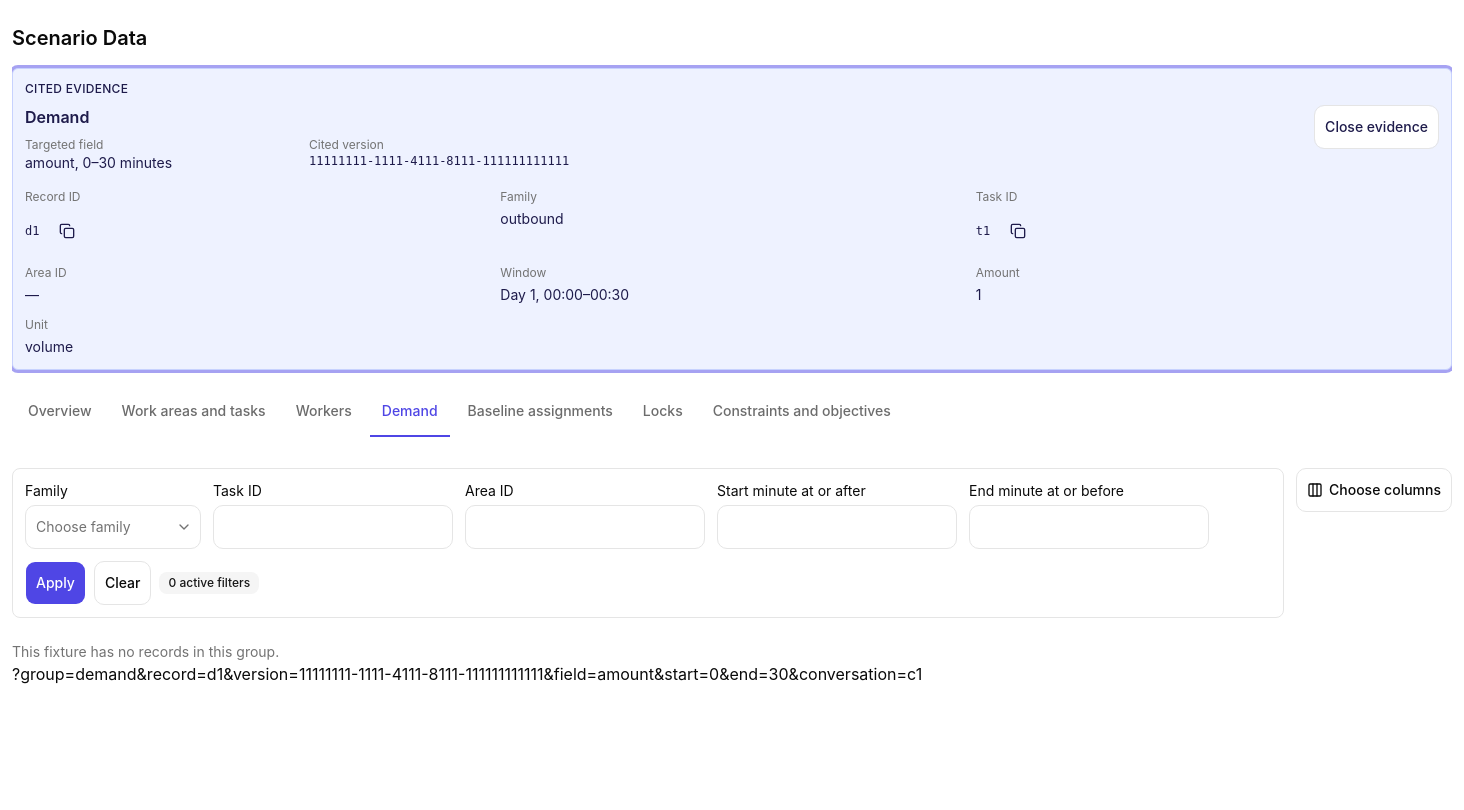
Test: closes the evidence onto its group, keeping filters and the chat's conversation
Click the button "Close evidence".
click(1377, 127)  # box [1314,105,1439,149]
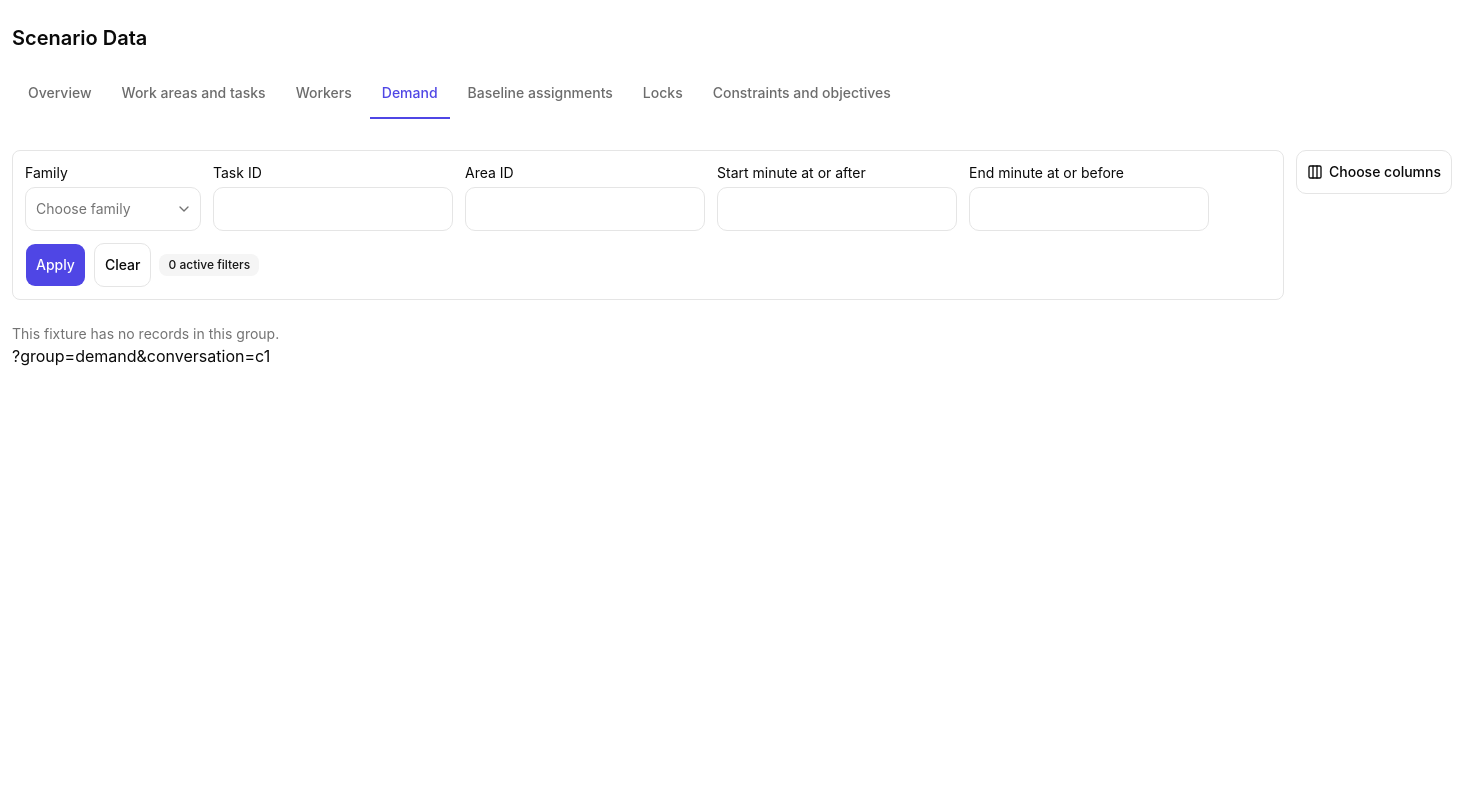
Now the text with test id "location" reads "?group=demand&conversation=c1", box [12,346,270,366]
